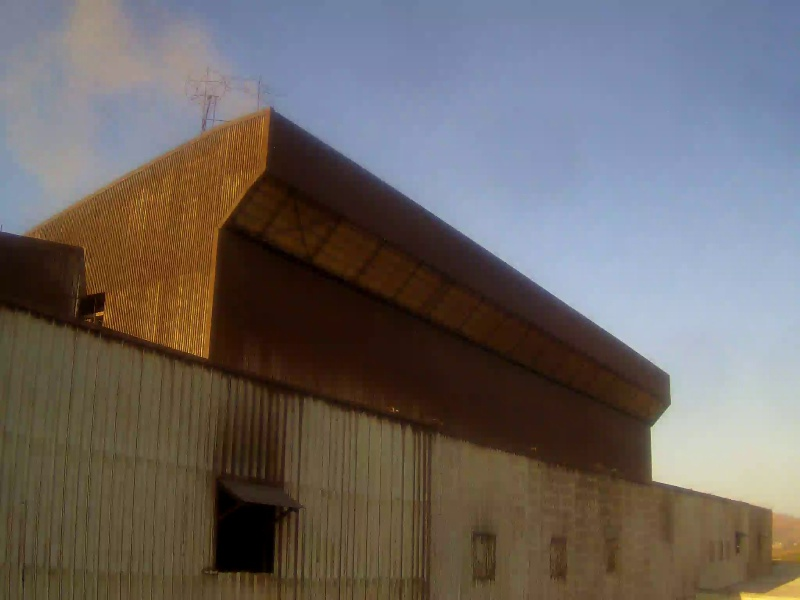Boa: (302, 1, 792, 121), (681, 112, 795, 400)
Ruim: (2, 1, 260, 172)
